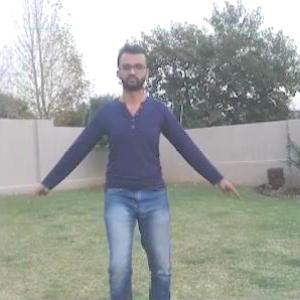land: (6, 34, 264, 299)
